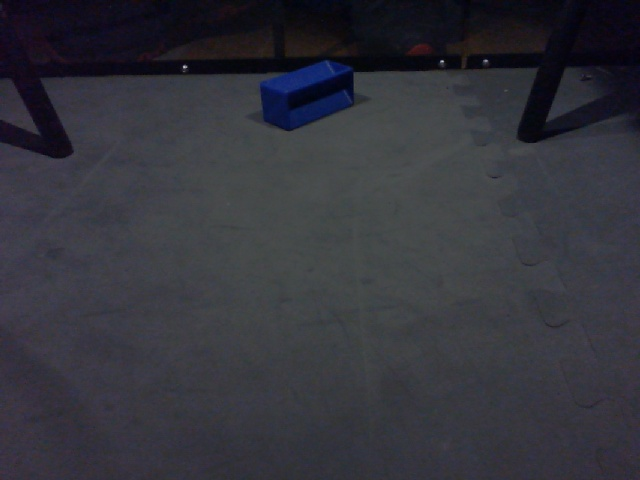BlueSample: (259, 58, 356, 135)
